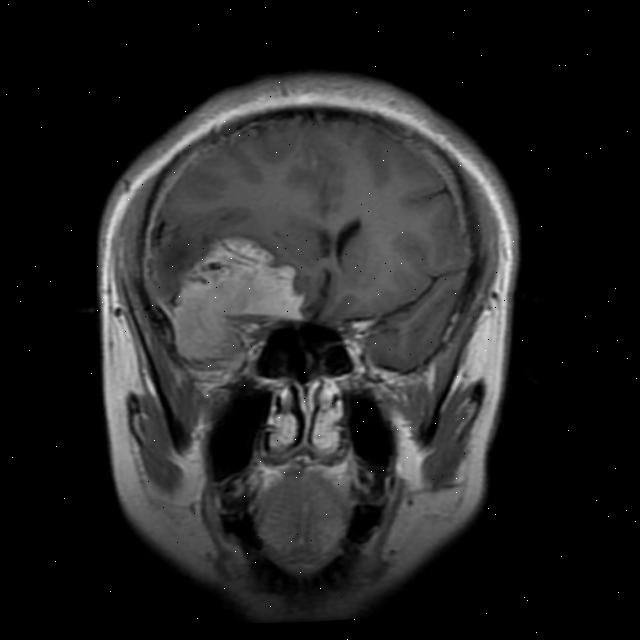Meningioma: (170, 228, 307, 365)
